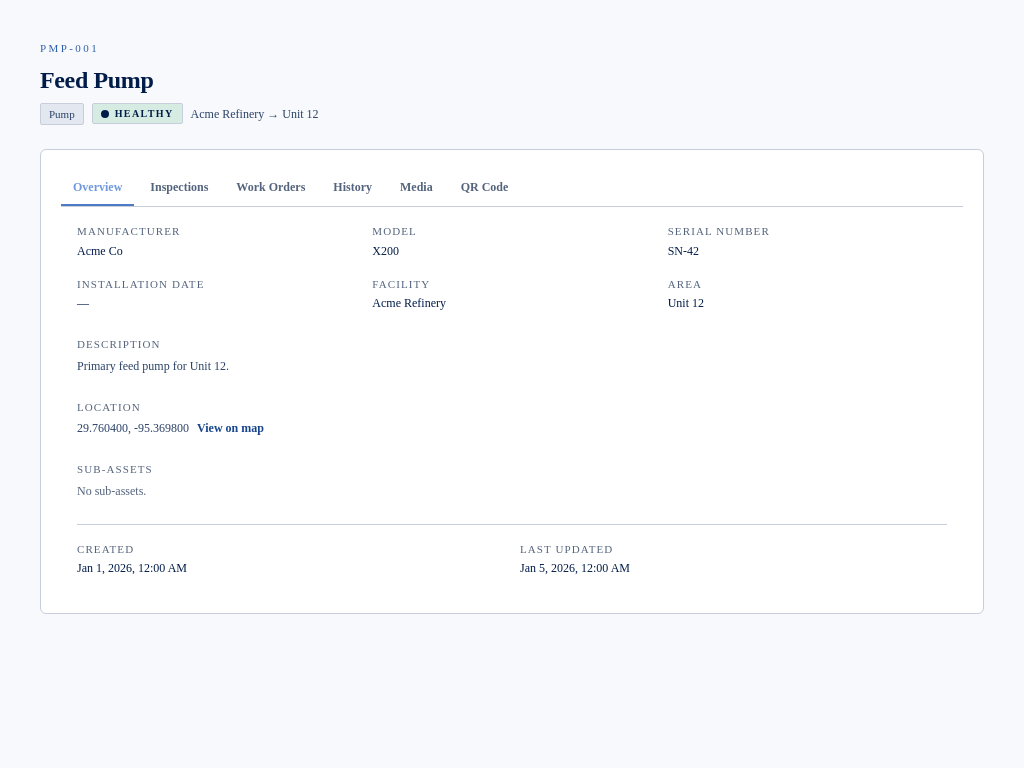
Test: asset detail page › renders real inspection rows on the Inspections tab
The width and height of the screenshot is (1024, 768).
Expected: the heading "Feed Pump" is shown, left=40, top=66, right=153, bottom=92
Click the tab "Inspections": (179, 188) left=138, top=170, right=220, bottom=206
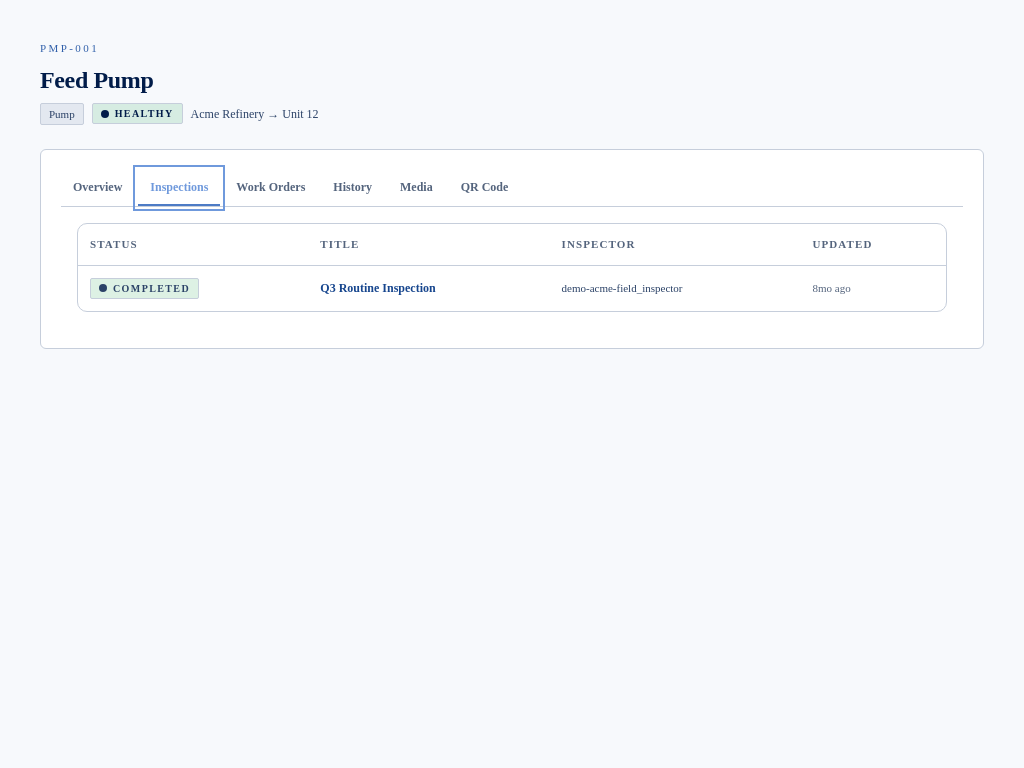
Now the link "Q3 Routine Inspection" is shown, box left=320, top=281, right=436, bottom=295
